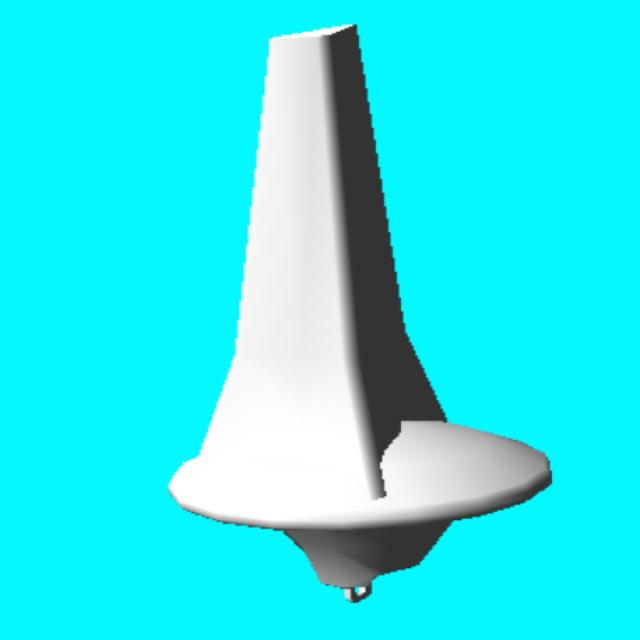WhiteBuoy: (170, 26, 550, 599)
